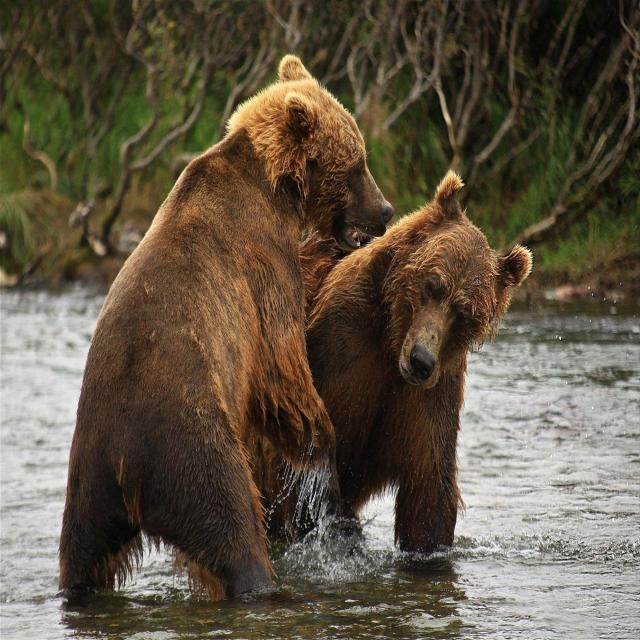Bear: (58, 56, 396, 610), (302, 173, 533, 554)
